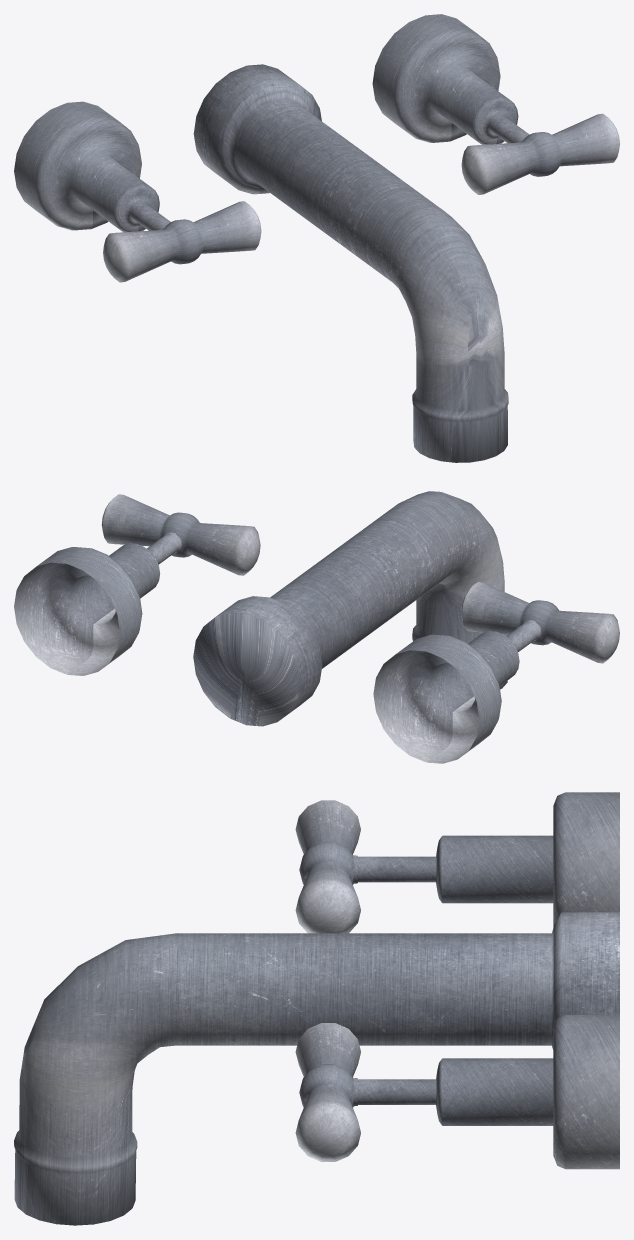
Rendered from Kraan.fbx.
3 views of the same model, one above another, from view 1: azimuth 30°, elevation 25°; view 2: azimuth 150°, elevation 25°; view 3: azimuth 270°, elevation 25° (orthographic). The views are drawn at different scales.
Parts seen in each view (by area): view 1: pCylinder1, pCylinder2, pCylinder3, pSphere1, pSphere2; view 2: pCylinder1, pCylinder2, pCylinder3, pSphere2, pSphere1; view 3: pCylinder1, pCylinder3, pCylinder2, pSphere2, pSphere1.
Boxes of the visible parts, bbox=[...] form: pCylinder1: bbox=[193, 64, 508, 462]; pCylinder2: bbox=[14, 101, 170, 232]; pCylinder3: bbox=[372, 14, 529, 144]; pSphere1: bbox=[103, 201, 261, 282]; pSphere2: bbox=[461, 113, 619, 194]; pCylinder1: bbox=[193, 491, 508, 726]; pCylinder2: bbox=[373, 620, 541, 763]; pCylinder3: bbox=[14, 532, 181, 675]; pSphere2: bbox=[101, 494, 260, 575]; pSphere1: bbox=[461, 582, 619, 663]; pCylinder1: bbox=[14, 912, 619, 1225]; pCylinder3: bbox=[353, 1015, 619, 1169]; pCylinder2: bbox=[353, 792, 619, 927]; pSphere2: bbox=[295, 1023, 360, 1161]; pSphere1: bbox=[295, 800, 360, 933].
Bounding box in the file's own units: 9.59 × 4.12 × 7.8.
Materials: 1 (1 with a texture image).
